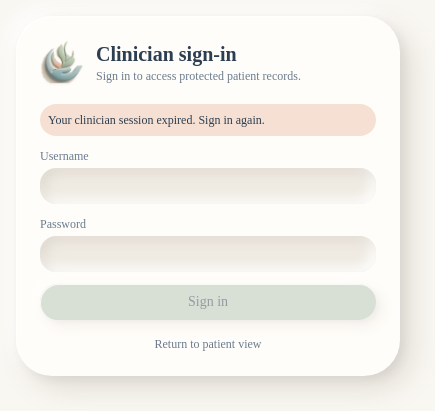
Test case: doctor route authentication › replaces the expired-session notice with a failed sign-in error
Expected: the message reads "Your clinician session expired. Sign in again.", [48, 113, 265, 127]
Type "dr-demo" into the field labelled "Username" at (208, 186), box [40, 168, 376, 204]
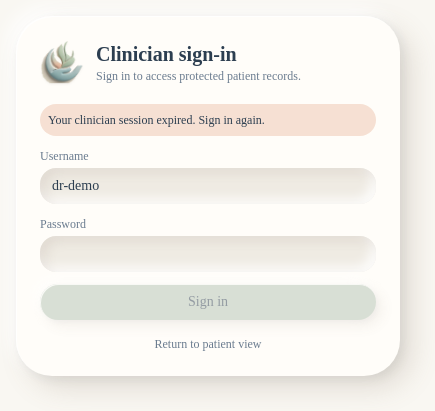
Type "wrong-secret" into the password field labelled "Password" at (208, 254), box [40, 236, 376, 272]
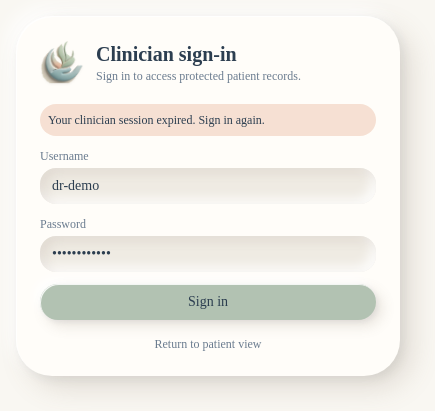
Click the button "Sign in" at (208, 302), box [40, 284, 376, 320]
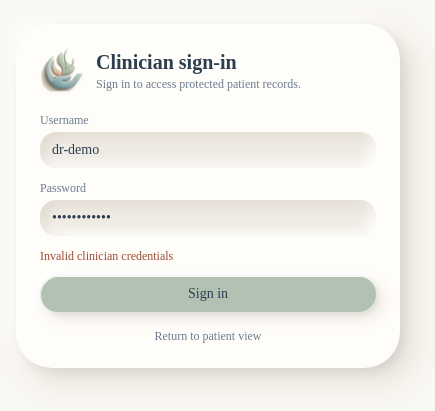
Result: the message reads "Invalid clinician credentials" at [40, 249, 173, 263]
